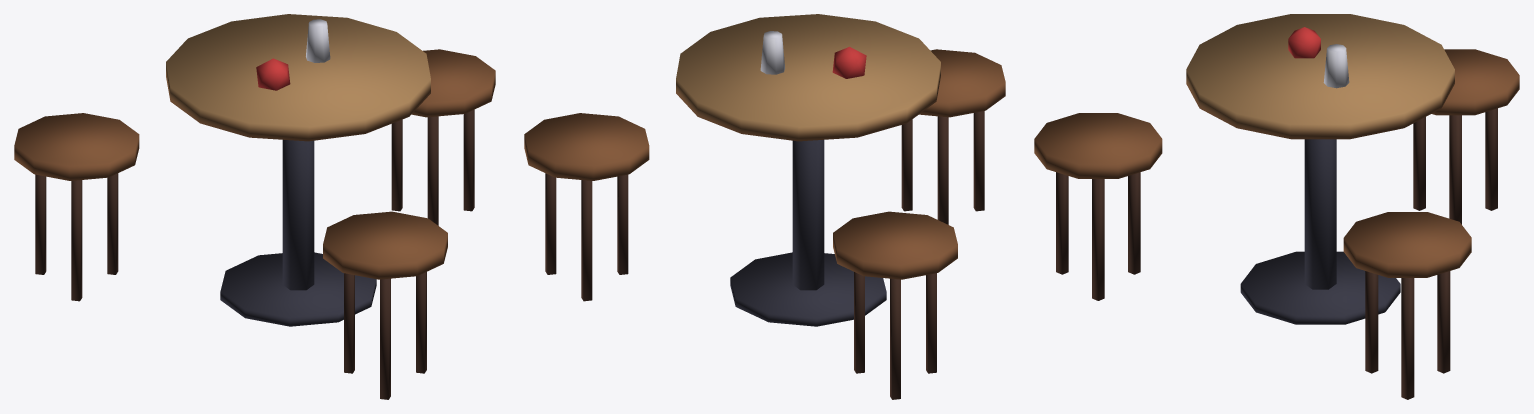
File: cafe_table.glb
The picture shows the model from 3 angles, left to right: view 1: azimuth 30°, elevation 25°; view 2: azimuth 150°, elevation 25°; view 3: azimuth 270°, elevation 25°; orthographic projection.
Parts seen in each view (by area): view 1: Table; view 2: Table; view 3: Table.
Part boxes in pixels (x1,y1,x2,y2): Table: [14, 14, 495, 399]; Table: [524, 14, 1005, 399]; Table: [1034, 14, 1519, 399].
Bounding box in the file's own units: 1.58 × 0.89 × 1.52.
